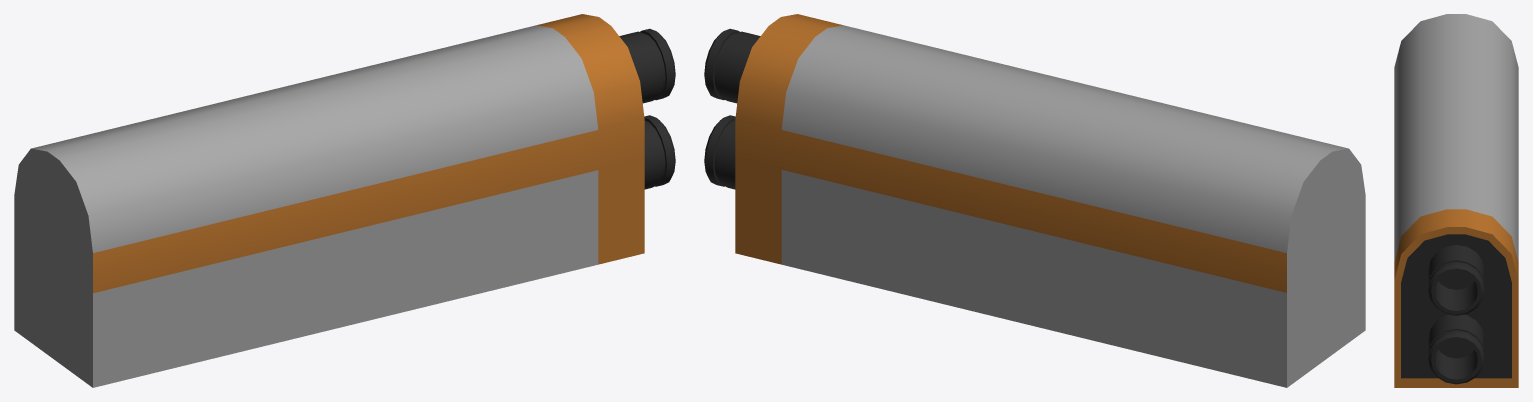
Rendered from Barrel_Pistol_2.glb.
3 views of the same model, side by side, from view 1: azimuth 30°, elevation 25°; view 2: azimuth 150°, elevation 25°; view 3: azimuth 270°, elevation 25° (orthographic). The views are drawn at different scales.
Parts seen in each view (by area): view 1: Barrel_Pistol_2; view 2: Barrel_Pistol_2; view 3: Barrel_Pistol_2.
Part boxes in pixels (x1=…): Barrel_Pistol_2: x1=14, y1=14, x2=675, y2=387; Barrel_Pistol_2: x1=704, y1=14, x2=1365, y2=387; Barrel_Pistol_2: x1=1394, y1=14, x2=1518, y2=387.
Bounding box in the file's own units: 0.4197 × 0.1344 × 0.0944.
